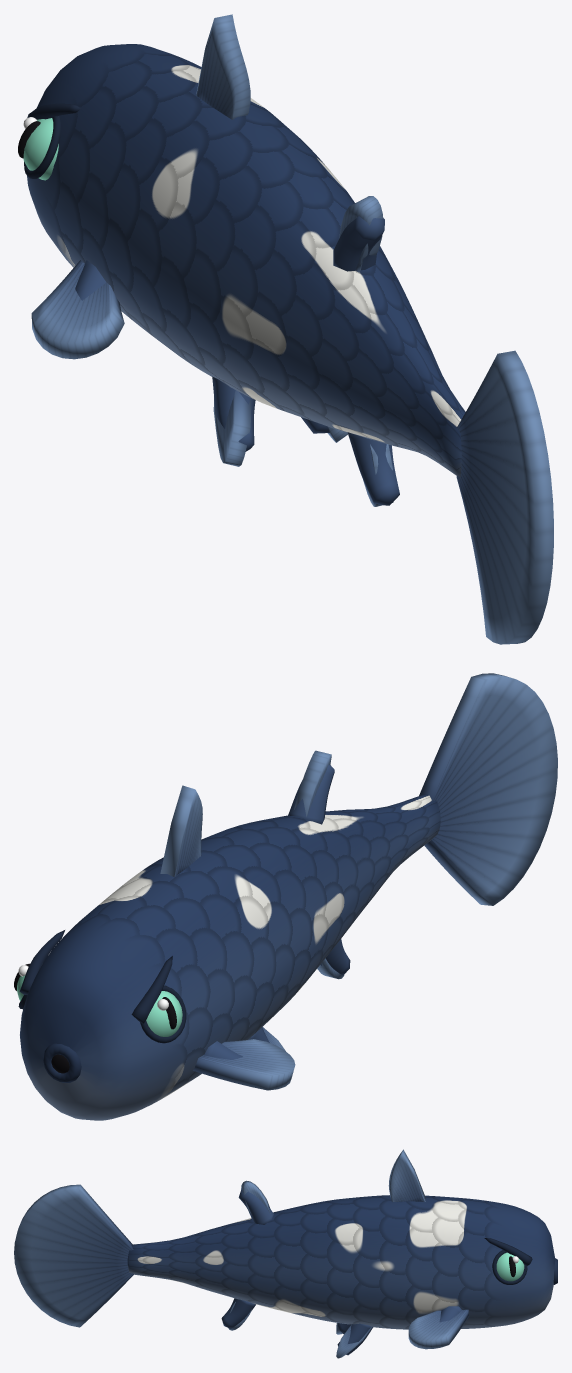
File: Coelacanth.glb
The picture shows the model from 3 angles, top to bottom: view 1: azimuth 30°, elevation 25°; view 2: azimuth 150°, elevation 25°; view 3: azimuth 270°, elevation 25°; orthographic projection. The views are drawn at different scales.
Visible parts, largest first — view 1: Coelacanth; view 2: Coelacanth; view 3: Coelacanth.
Boxes of the visible parts, x1,y1,x2,y2 form: Coelacanth: [18, 14, 553, 644]; Coelacanth: [14, 673, 557, 1120]; Coelacanth: [14, 1149, 557, 1358].
Bounding box in the file's own units: 1.54 × 1.81 × 4.56.
Materials: 1 (1 with a texture image).
